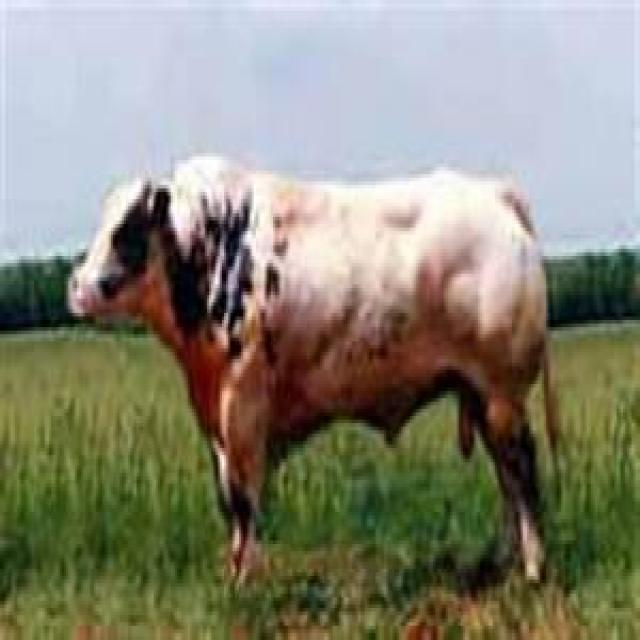cow: (66, 156, 548, 587)
